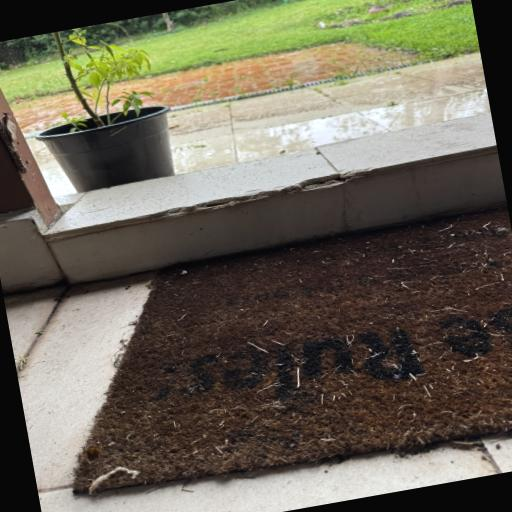step: (40, 113, 506, 283)
